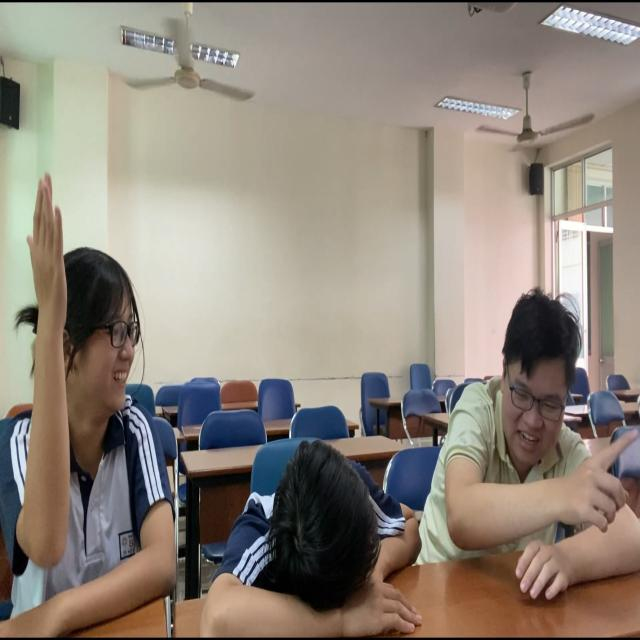raise_hand: (1, 192, 161, 640)
sleep: (193, 385, 430, 640)
